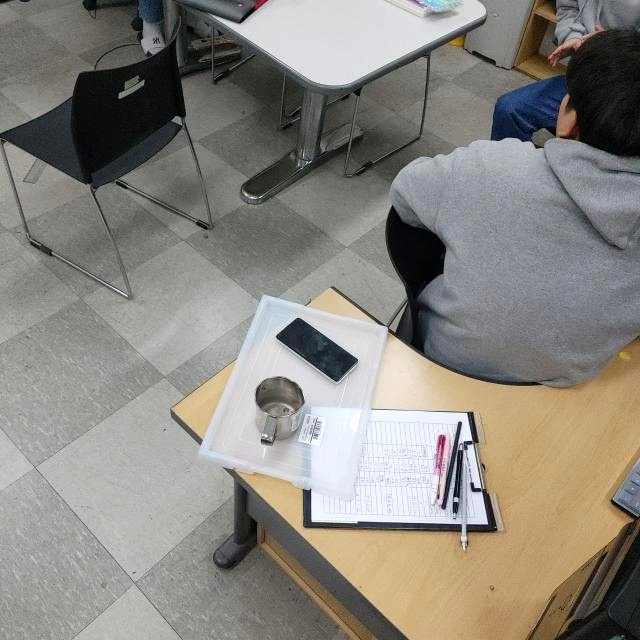cup: (253, 375, 303, 449)
phone: (276, 317, 360, 386)
